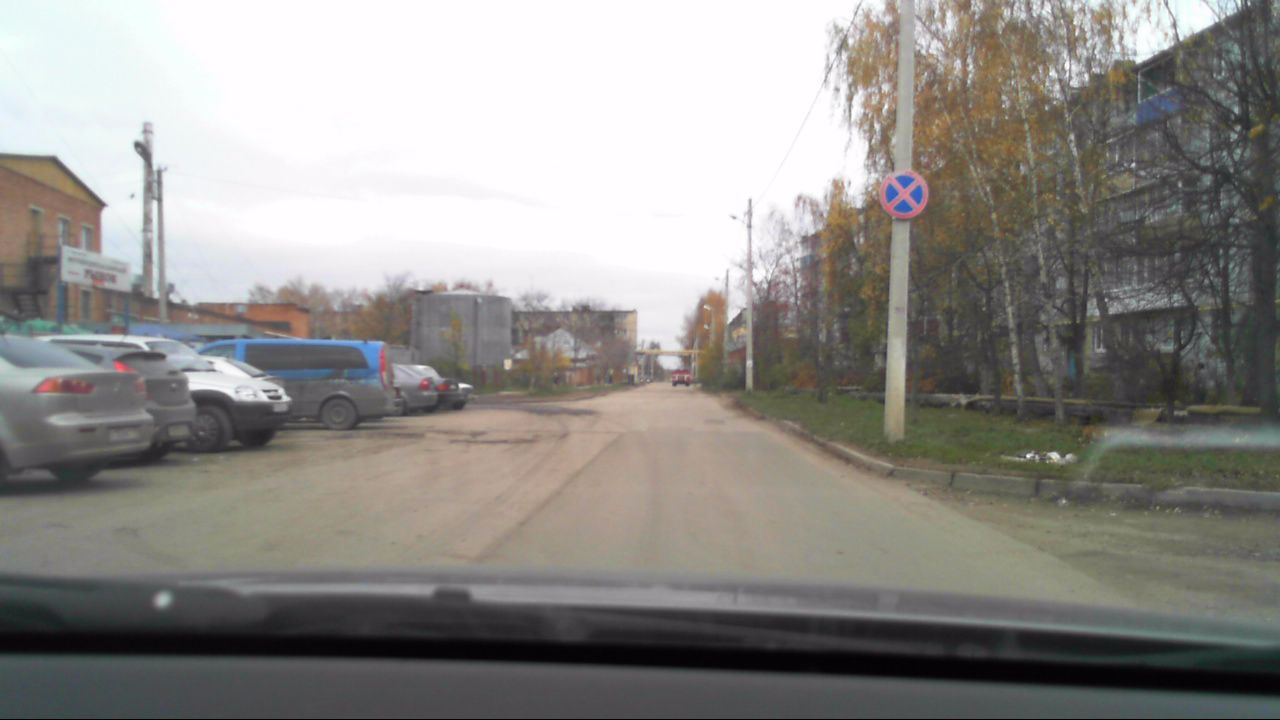No Parking: (875, 169, 930, 220)
